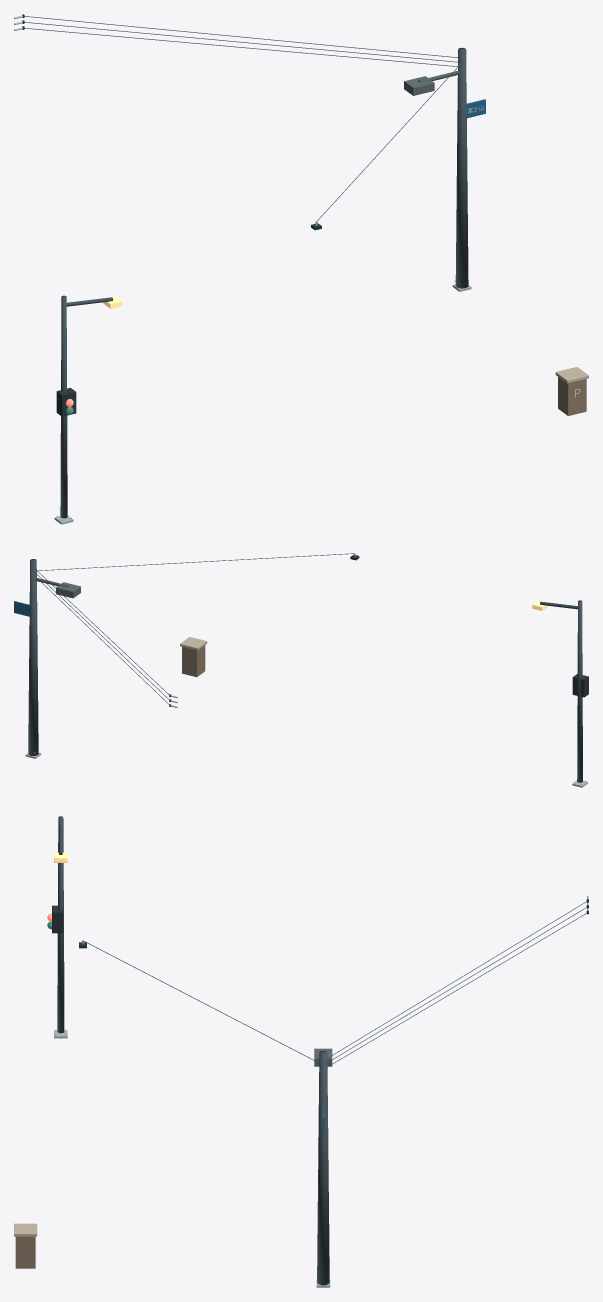
The model's file is street-props.glb.
3 renders of one model, top to bottom at view 1: azimuth 30°, elevation 25°; view 2: azimuth 150°, elevation 25°; view 3: azimuth 270°, elevation 25°, orthographic. The views are drawn at different scales.
Visible parts, largest first — view 1: Web | StreetProps/0009.001, Web | StreetProps/0014.001, Web | StreetProps/0001.001, Web | StreetProps/0018.001; view 2: Web | StreetProps/0009.001, Web | StreetProps/0001.001, Web | StreetProps/0014.001, Web | StreetProps/0018.001; view 3: Web | StreetProps/0009.001, Web | StreetProps/0014.001, Web | StreetProps/0001.001, Web | StreetProps/0018.001.
Part boxes in pixels (x1,y1,x2,y2): Web | StreetProps/0009.001: (455,47,468,288); Web | StreetProps/0014.001: (24,16,460,221); Web | StreetProps/0001.001: (60,295,113,518); Web | StreetProps/0018.001: (558,377,586,415); Web | StreetProps/0009.001: (28,559,38,755); Web | StreetProps/0001.001: (540,600,582,782); Web | StreetProps/0014.001: (34,553,354,704); Web | StreetProps/0018.001: (182,645,205,677); Web | StreetProps/0009.001: (317,1051,329,1285); Web | StreetProps/0014.001: (83,901,587,1066); Web | StreetProps/0001.001: (57,816,64,1033); Web | StreetProps/0018.001: (15,1236,35,1268).
Bounding box in the file's own units: 15.79 × 6.75 × 14.35.
